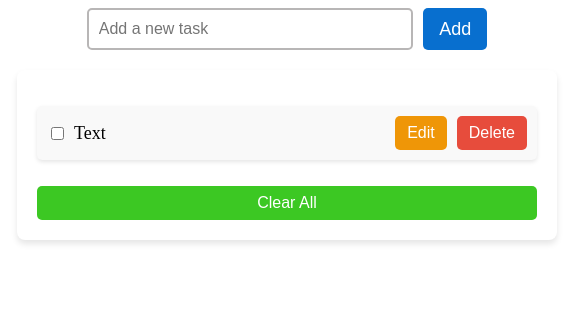
should clear all tasks when "Clear All" is clicked
The width and height of the screenshot is (575, 326).
Type "Text" into the field with placeholder "Add a new task".
click(250, 29); type("Text")  # box x1=87 y1=8 x2=413 y2=50
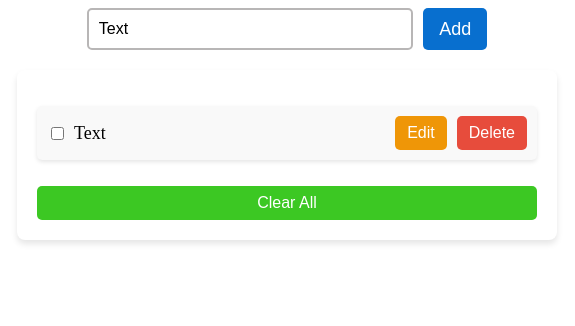
Click the button "Add".
click(455, 29)  # box x1=423 y1=8 x2=487 y2=50
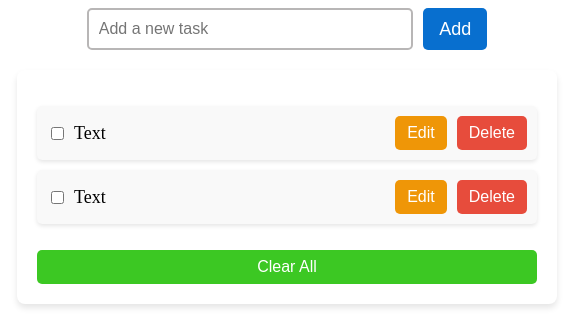
Click the button "Clear All".
click(287, 267)  # box x1=37 y1=250 x2=537 y2=284
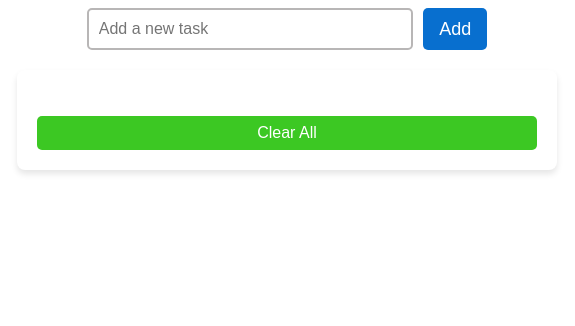
Expected: the text "Text" is gone
